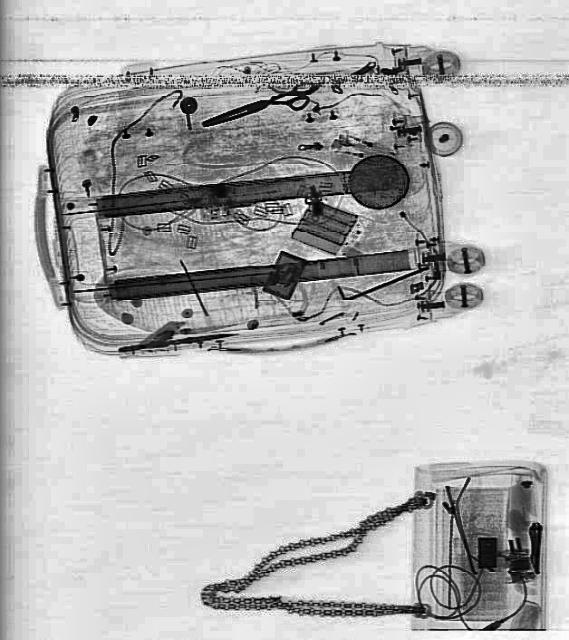Scissors: (199, 78, 321, 138)
